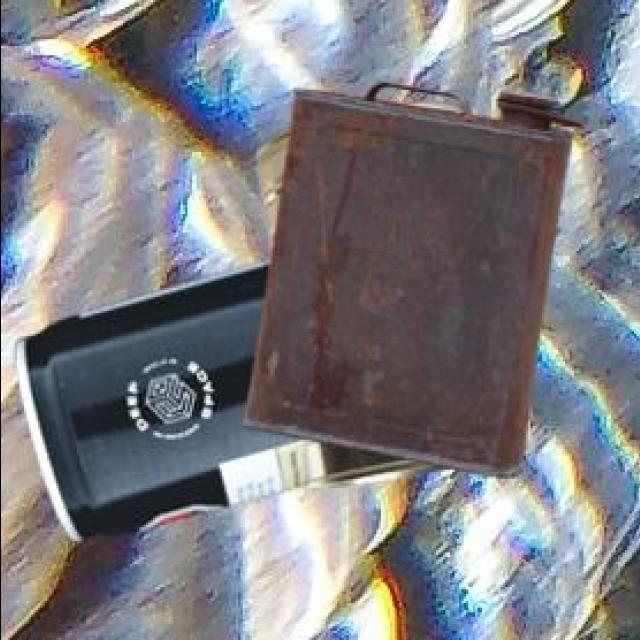logam: (247, 79, 587, 473), (259, 101, 535, 487), (17, 257, 312, 538)
